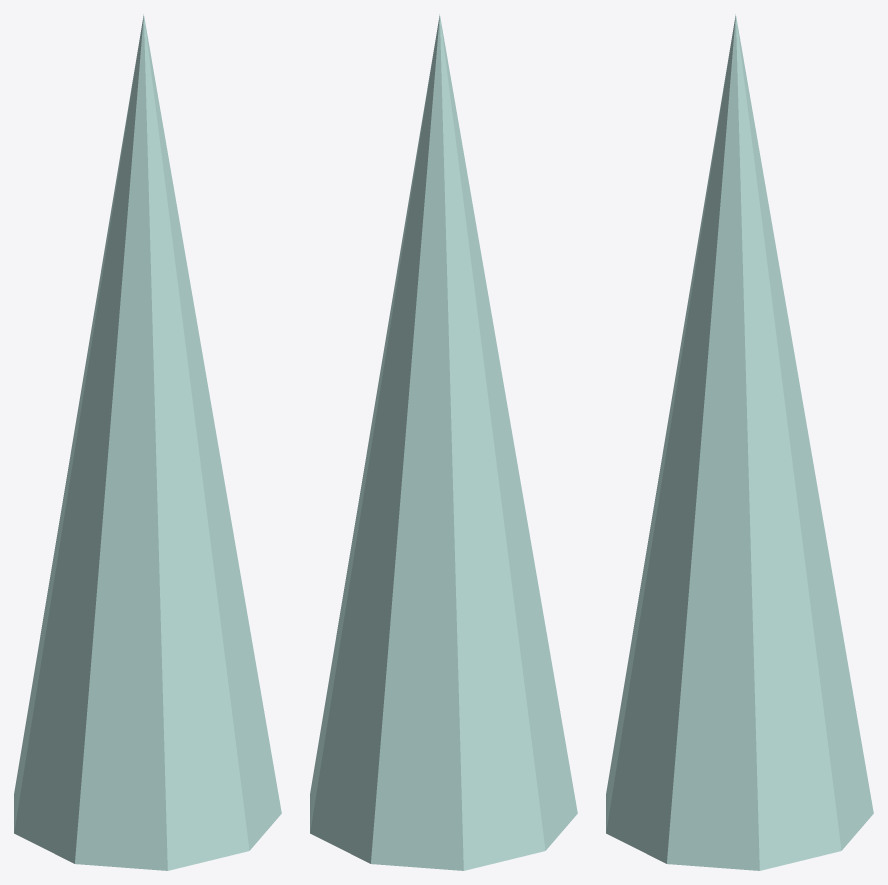
The model's file is bullet.fbx.
3 views of the same model, side by side, from view 1: azimuth 30°, elevation 25°; view 2: azimuth 150°, elevation 25°; view 3: azimuth 270°, elevation 25° (orthographic).
Parts seen in each view (by area): view 1: Cone; view 2: Cone; view 3: Cone.
Boxes of the visible parts, left/top/right/bottom form: Cone: left=14, top=14, right=281, bottom=870; Cone: left=310, top=14, right=577, bottom=870; Cone: left=606, top=14, right=873, bottom=870.
Bounding box in the file's own units: 146 × 473 × 144.
